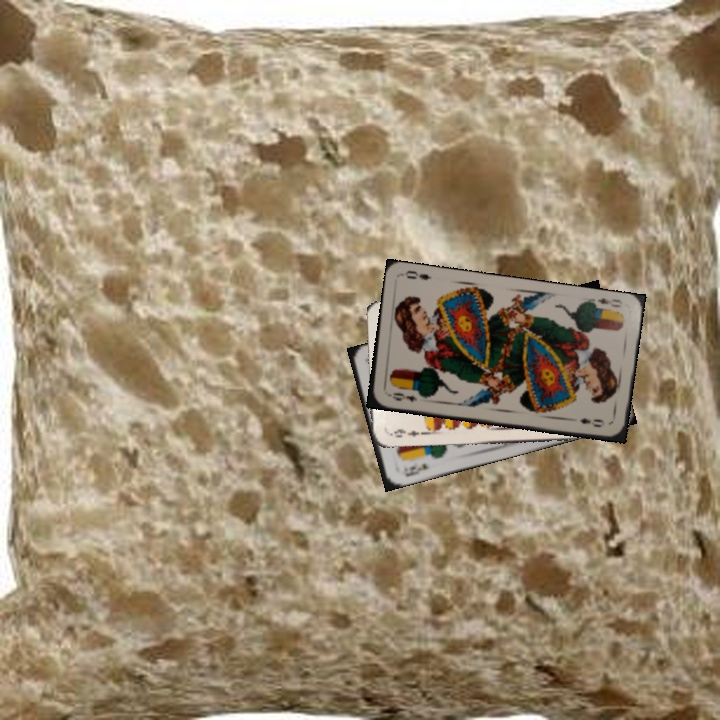E9: (386, 425, 425, 440)
EK: (402, 459, 431, 479)
EO: (587, 294, 625, 315), (383, 388, 419, 405)
